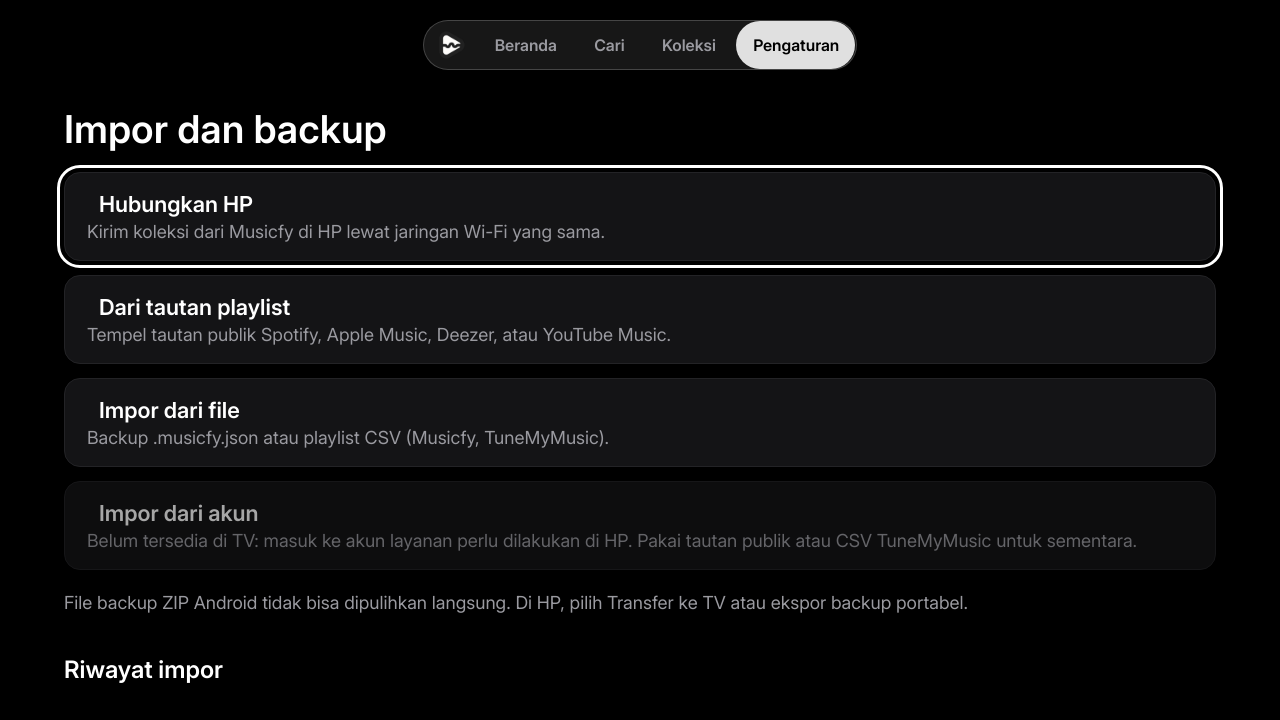
Test: connect a phone › hiding the app (the TV suspends it) cancels the session
Click the button that starts with "Hubungkan HP": (176, 204) [64,172,1216,261]
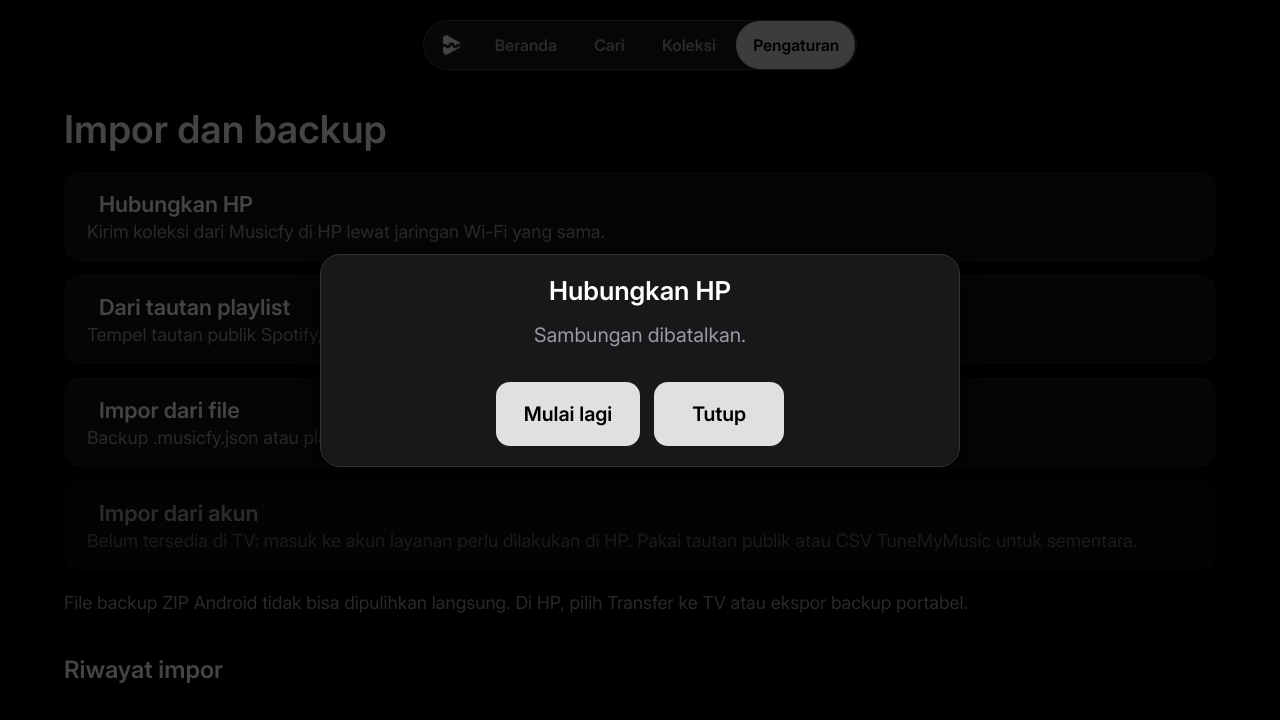
Check: the dialog with class "is-top" shows "dibatalkan", box [534,322,746,346]
